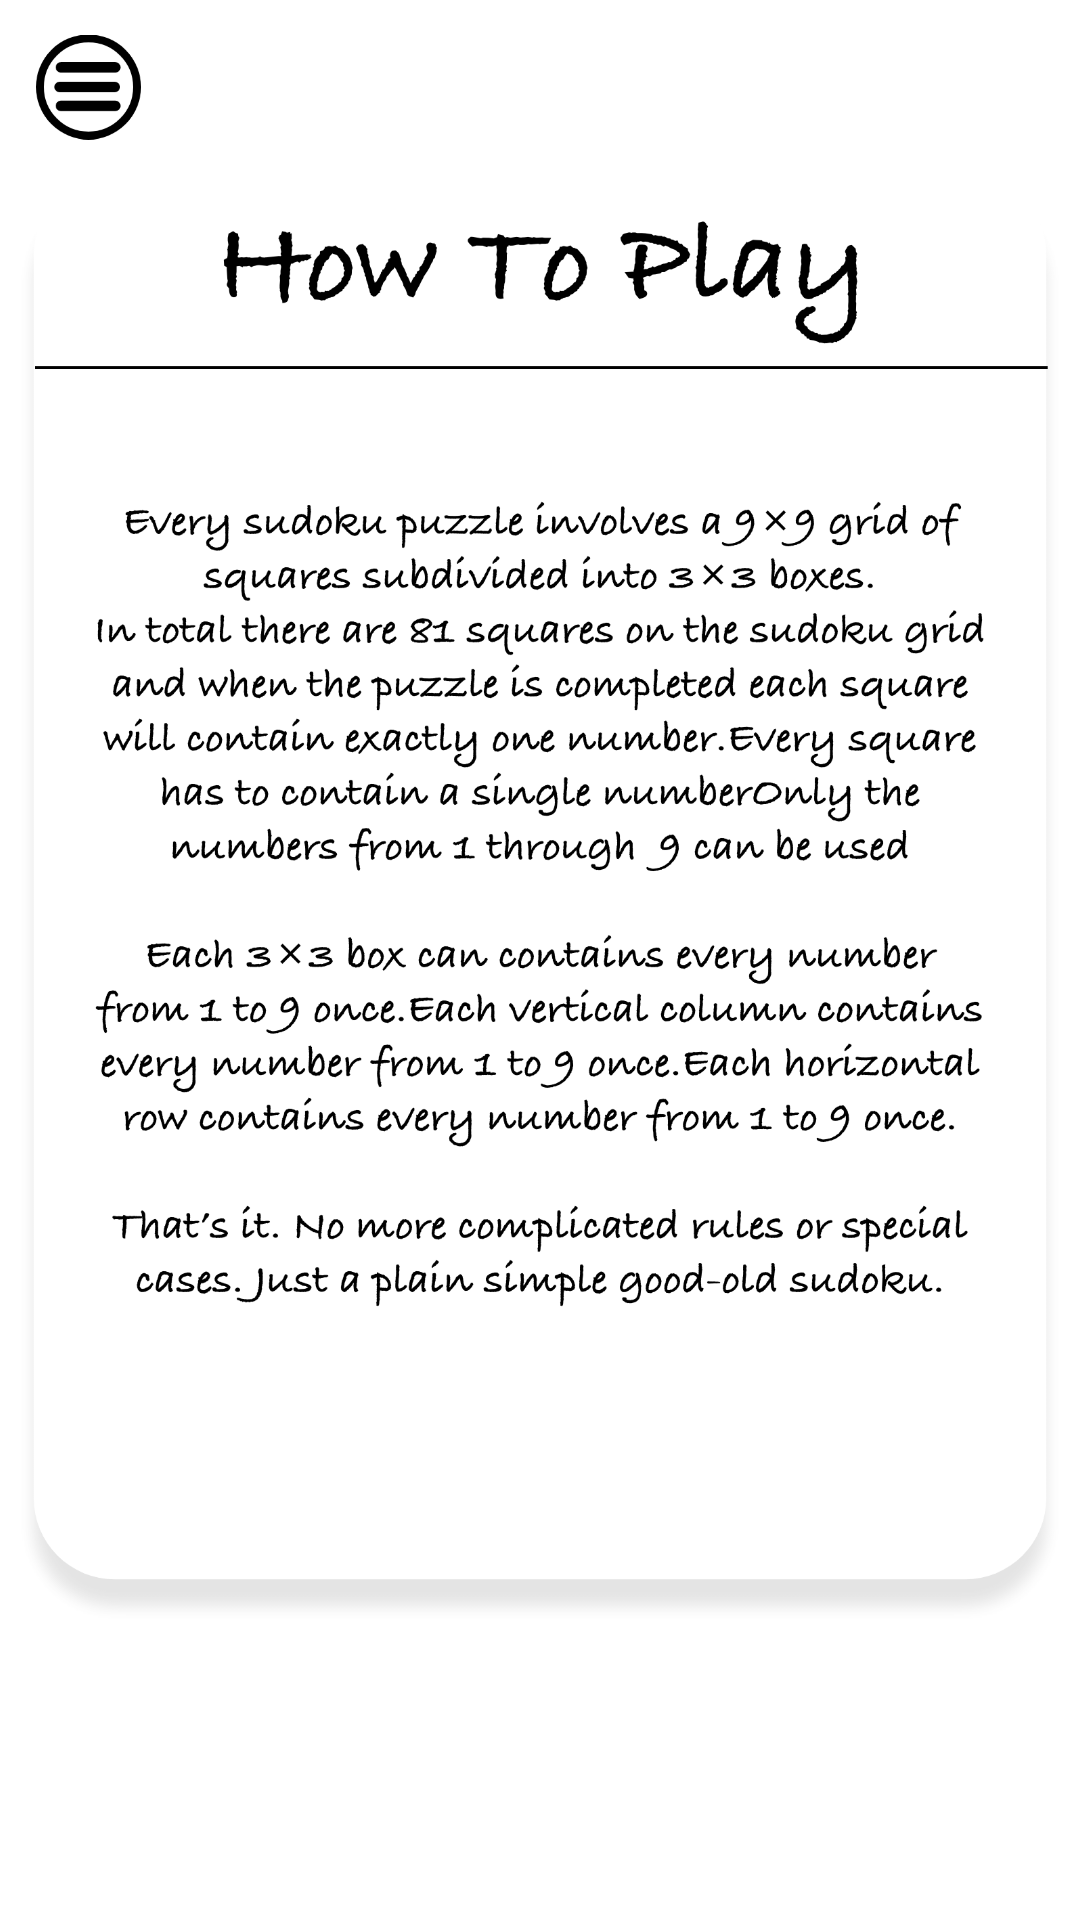

Icons on this 1080w x 1920h Android screen, each with its box as (x1, y1, x2, y2):
backmenu: (36, 35, 141, 140)
